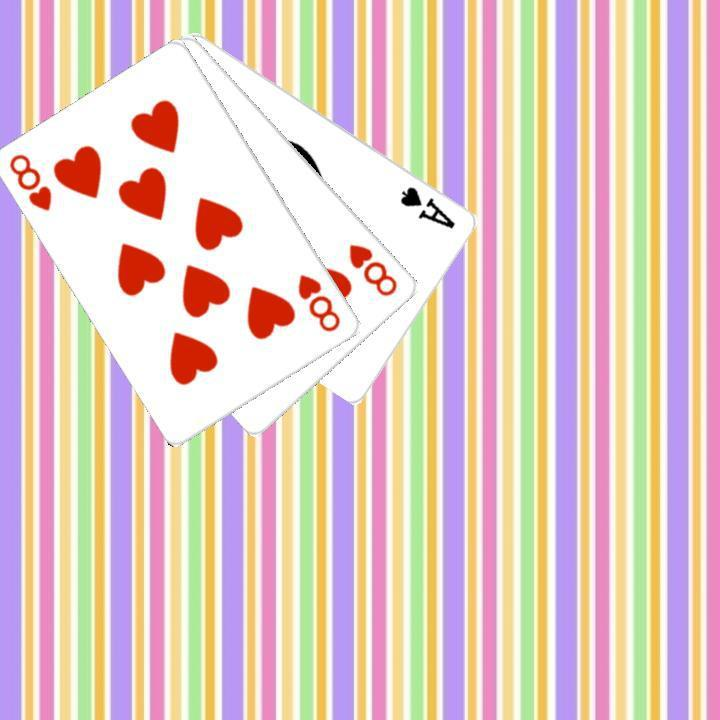8: (345, 239, 400, 299), (293, 269, 343, 335), (5, 149, 55, 213)
A: (396, 181, 458, 231)
